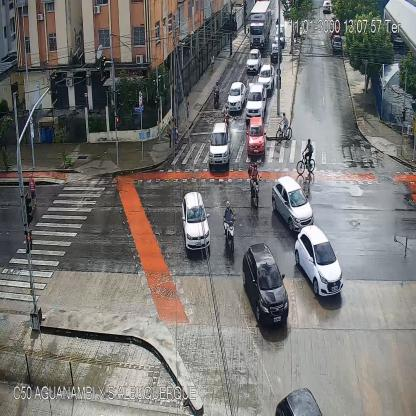bicycle: (296, 138, 316, 176), (276, 111, 293, 142)
car: (244, 245, 288, 329), (296, 226, 342, 300), (272, 175, 314, 233), (183, 193, 211, 251), (275, 389, 321, 416), (209, 122, 231, 164), (246, 118, 266, 155), (247, 84, 266, 122), (228, 82, 246, 111), (258, 64, 274, 92), (246, 47, 261, 75), (270, 42, 282, 63), (274, 26, 285, 48), (333, 33, 341, 51), (323, 1, 330, 13)
motorbike: (223, 201, 235, 254), (250, 166, 260, 208), (214, 81, 221, 108), (223, 104, 229, 126), (275, 18, 278, 25)
person: (28, 174, 37, 210), (172, 115, 178, 148), (168, 120, 172, 149), (186, 93, 190, 116), (234, 20, 238, 38), (210, 53, 214, 70)
truck: (248, 1, 271, 50)
